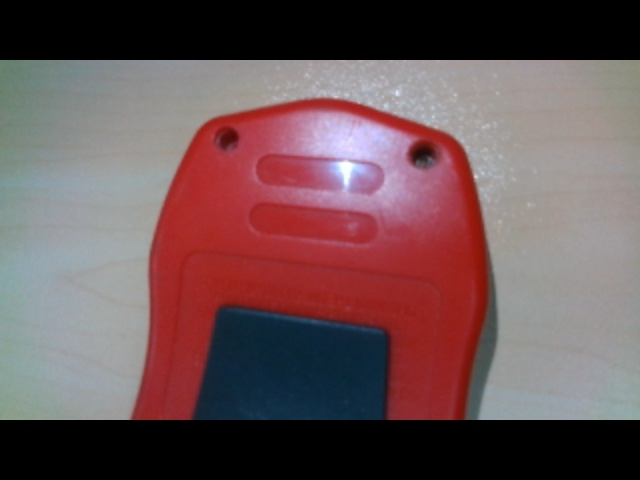Screw holes: (404, 137, 443, 171), (212, 123, 245, 153)
